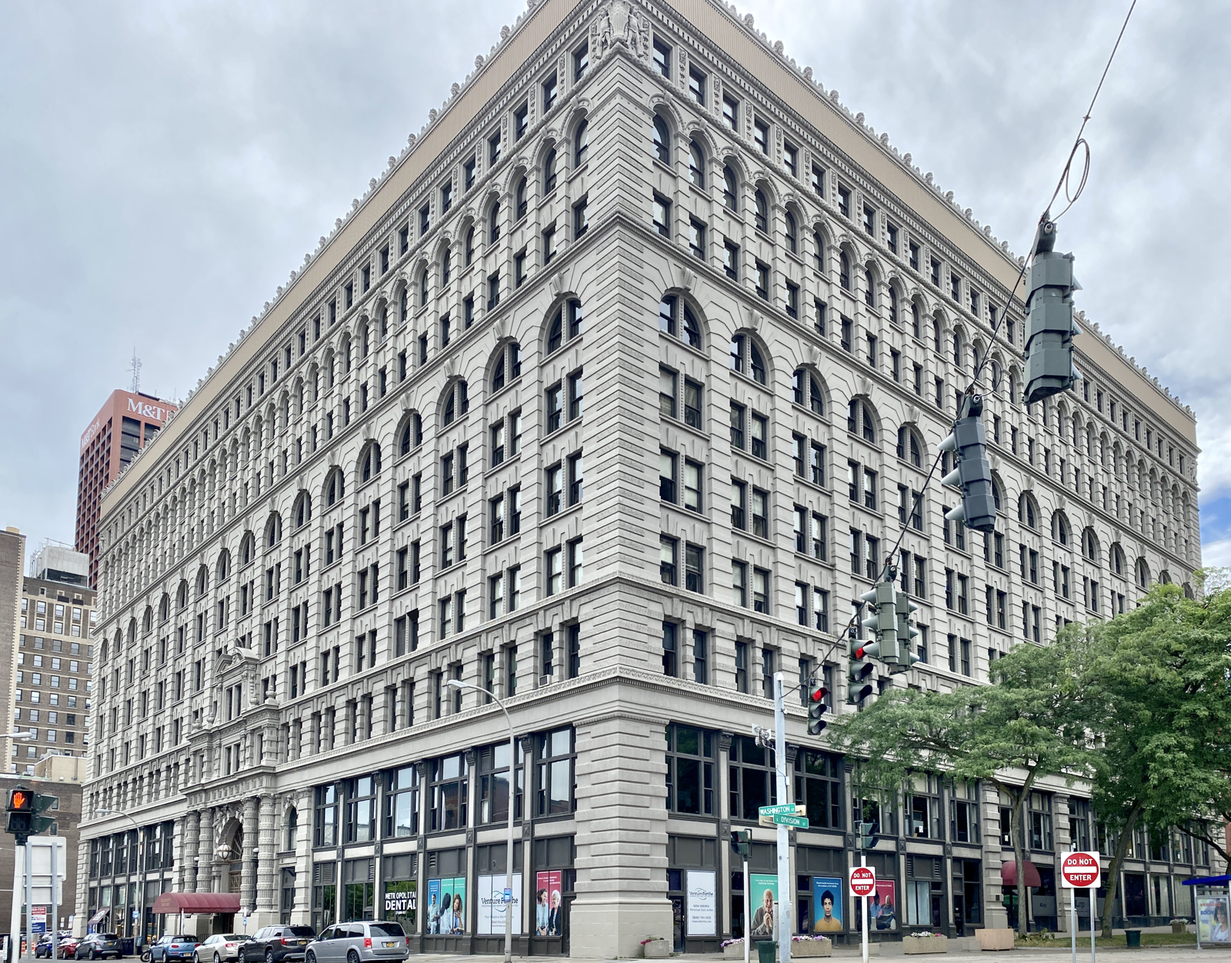fachada: (105, 0, 1218, 959), (0, 500, 103, 963), (69, 395, 182, 551)
poste: (441, 651, 533, 954)
